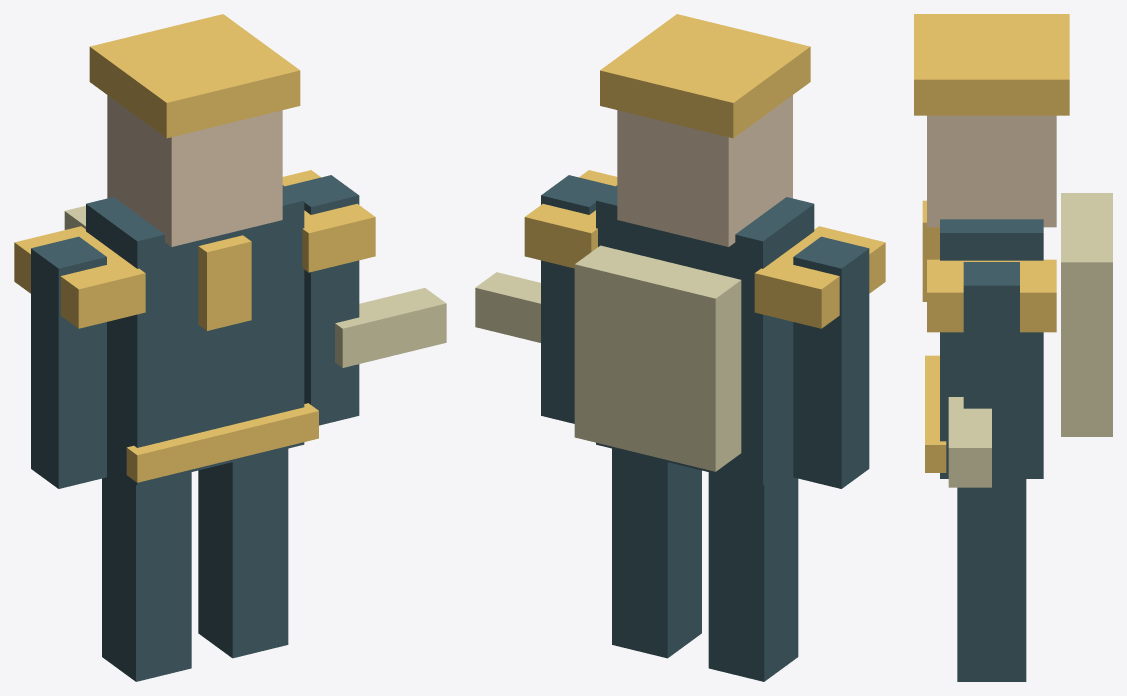
The model's file is 16_noor_holloway_cartographer_from_hushbloom.glb.
The picture shows the model from 3 angles, left to right: view 1: azimuth 30°, elevation 25°; view 2: azimuth 150°, elevation 25°; view 3: azimuth 270°, elevation 25°; orthographic projection.
Parts seen in each view (by area): view 1: Noor Holloway, Cartographer from Hushbloom; view 2: Noor Holloway, Cartographer from Hushbloom; view 3: Noor Holloway, Cartographer from Hushbloom.
Part boxes in pixels (x1,y1,x2,y2): Noor Holloway, Cartographer from Hushbloom: (14,14,446,681); Noor Holloway, Cartographer from Hushbloom: (475,14,885,681); Noor Holloway, Cartographer from Hushbloom: (914,14,1112,681).
Size of the model in its own units: 1.03 by 1.53 by 0.4613.
